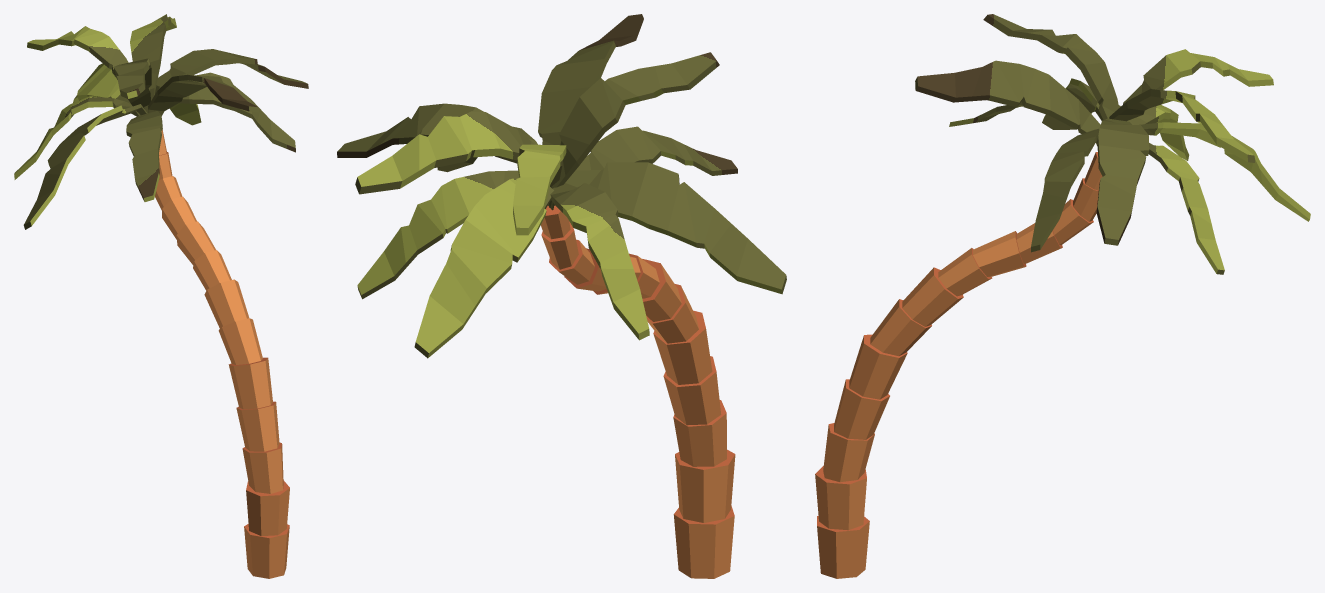
The model's file is Palm Tree 4.fbx.
The picture shows the model from 3 angles, left to right: view 1: azimuth 30°, elevation 25°; view 2: azimuth 150°, elevation 25°; view 3: azimuth 270°, elevation 25°; orthographic projection. The views are drawn at different scales.
Visible parts, largest first — view 1: Tree-4; view 2: Tree-4; view 3: Tree-4.
Boxes of the visible parts, box(x1,y1,x2,y2) form: Tree-4: box(14, 14, 308, 578); Tree-4: box(337, 14, 786, 578); Tree-4: box(815, 14, 1310, 578).
Bounding box in the file's own units: 332 × 467 × 406.
